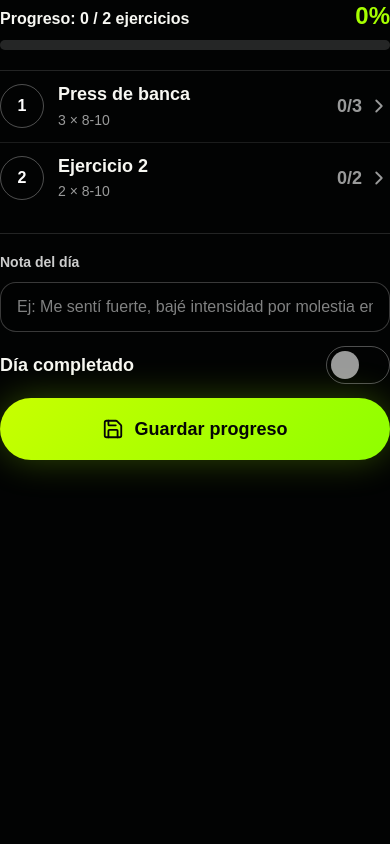
Test: DailyLogForm exercise list and sheet › advances through exercises from the sheet, and offers to go back to the list on the last one
Step 1. Click the button named "Press de banca," → coordinates (22, 106), box [0,71,389,142]
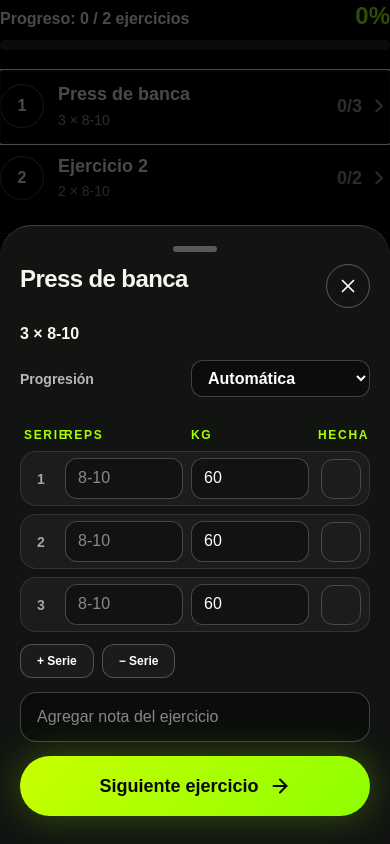
expect the heading "Press de banca" is shown: met, box [20,264,188,294]
expect the button "Siguiente ejercicio" is shown: met
Step 2. Click the button "Siguiente ejercicio" → coordinates (195, 786), box [20,756,370,816]
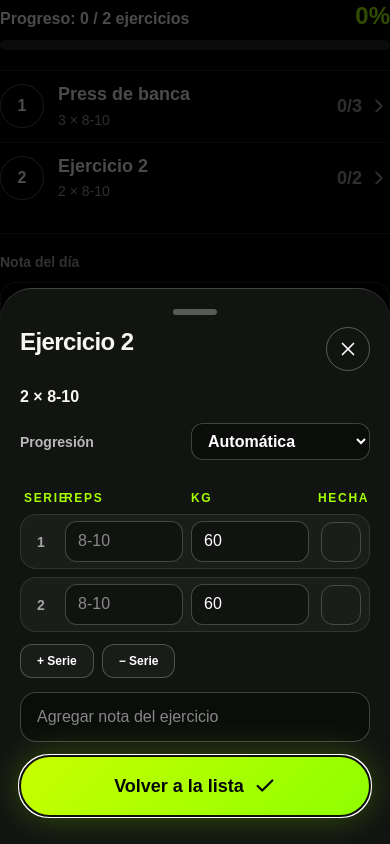
expect the heading "Ejercicio 2" is shown: met, box [20,327,134,357]
expect the button "Volver a la lista" is shown: met
Step 3. Click the button "Volver a la lista" → coordinates (195, 786), box [20,756,370,816]
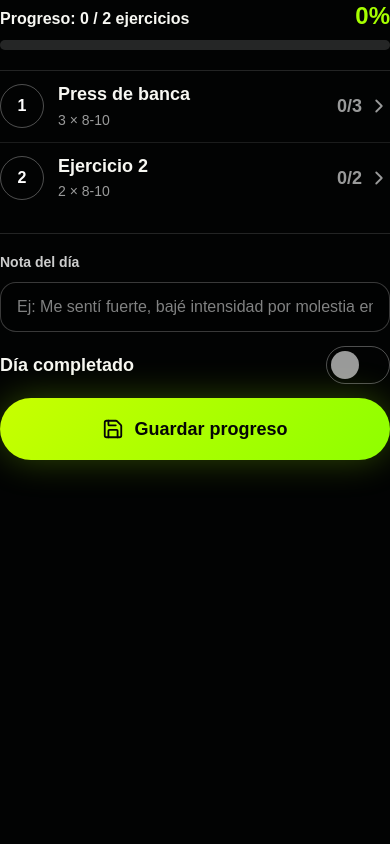
expect the dialog is gone: met
